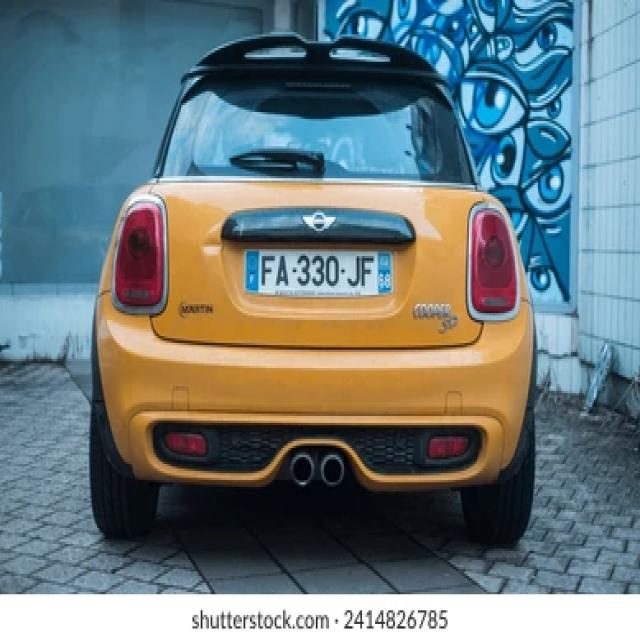mini: (299, 202, 343, 237)
